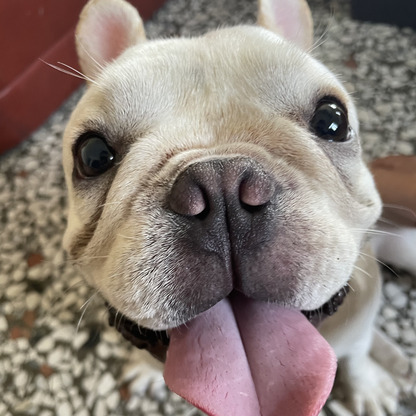bulldog: (56, 3, 416, 412)
